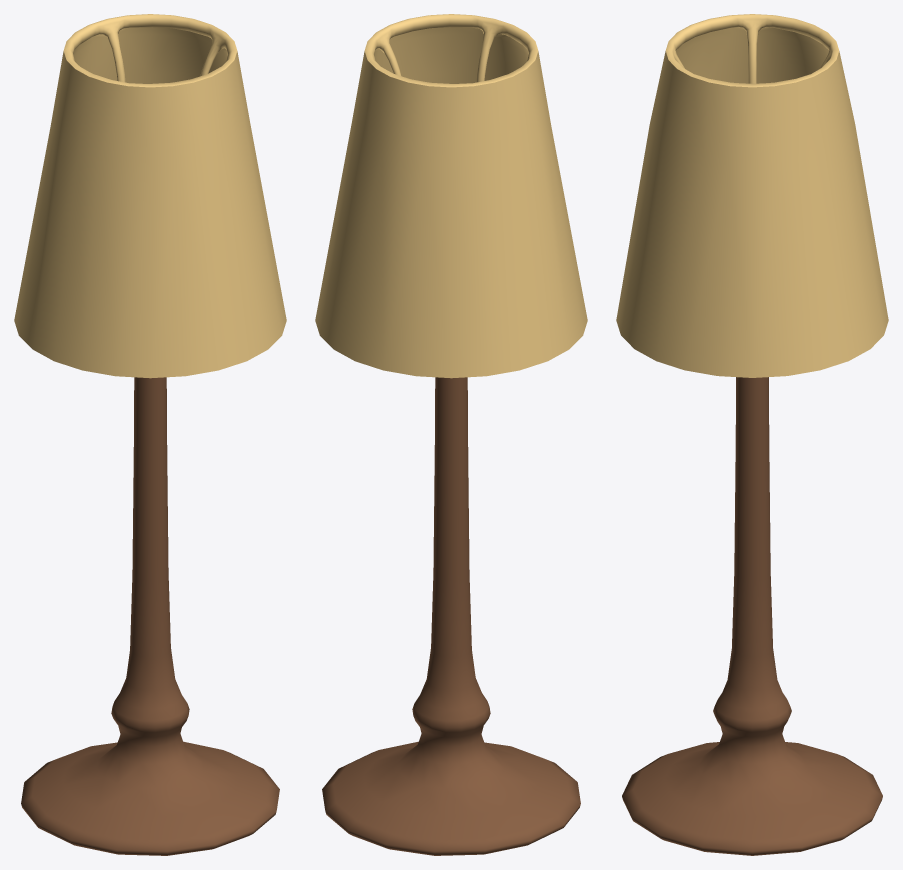
File: 029_tall_lamp.glb
3 views of the same model, side by side, from view 1: azimuth 30°, elevation 25°; view 2: azimuth 150°, elevation 25°; view 3: azimuth 270°, elevation 25° (orthographic).
Parts seen in each view (by area): view 1: headLow, foot; view 2: headLow, foot; view 3: headLow, foot.
Boxes of the visible parts, bbox=[...] form: headLow: bbox=[14, 14, 286, 378]; foot: bbox=[21, 377, 279, 855]; headLow: bbox=[315, 14, 587, 378]; foot: bbox=[322, 377, 580, 855]; headLow: bbox=[616, 14, 888, 377]; foot: bbox=[622, 377, 882, 855].
Size of the model in its own units: 0.7335 by 2.25 by 0.7335.
